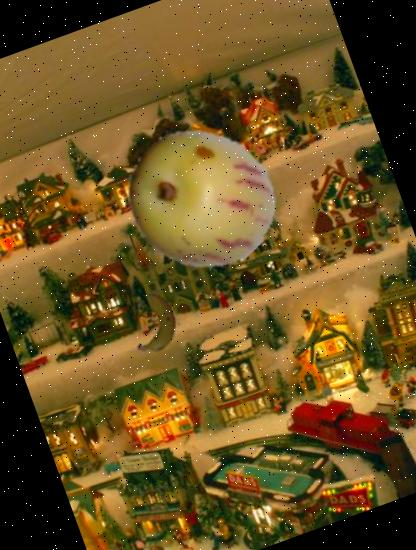Banana: (118, 284, 194, 360)
Pepino: (106, 106, 294, 294)
